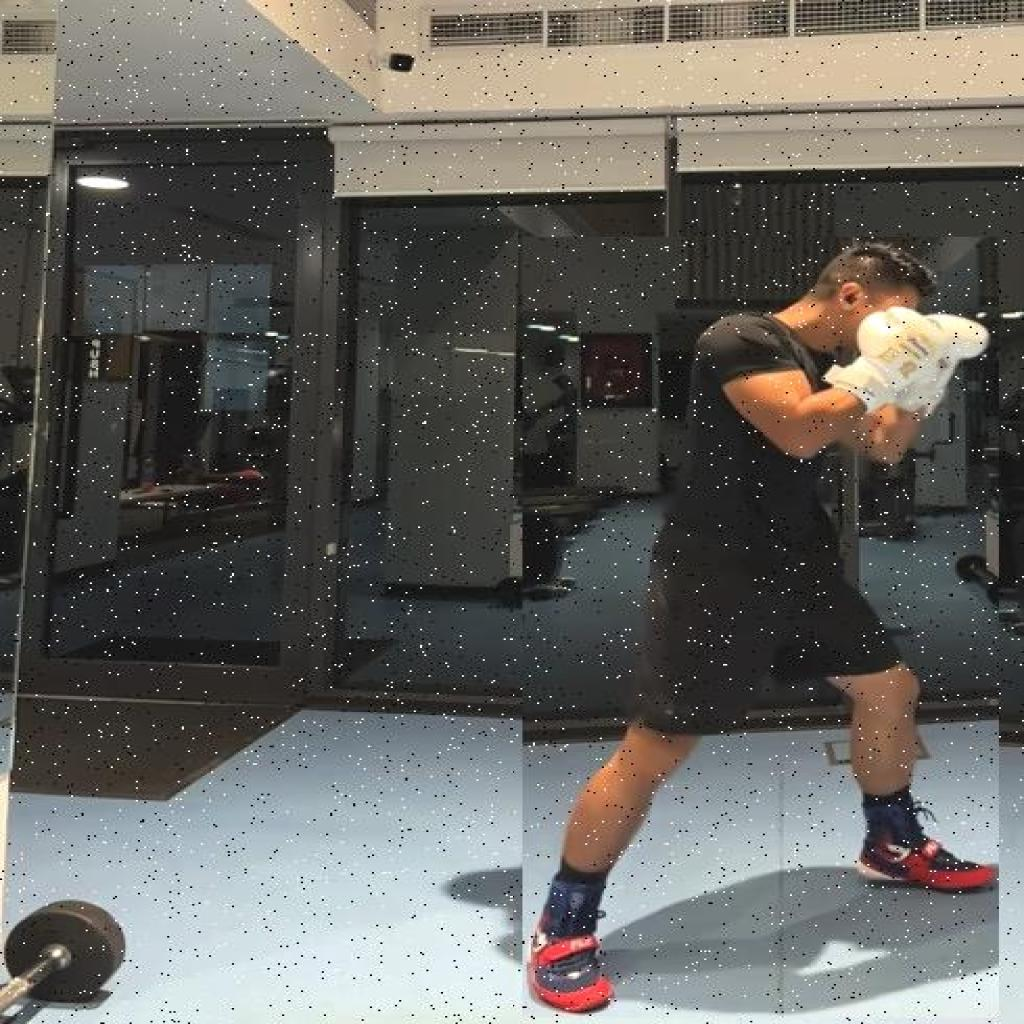no punch: (522, 237, 998, 1017)
